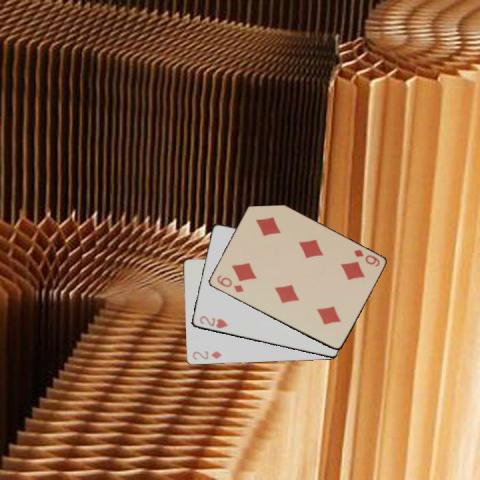2d: (189, 348, 223, 361)
2h: (196, 313, 229, 330)
6d: (213, 272, 245, 294), (350, 247, 380, 268)
